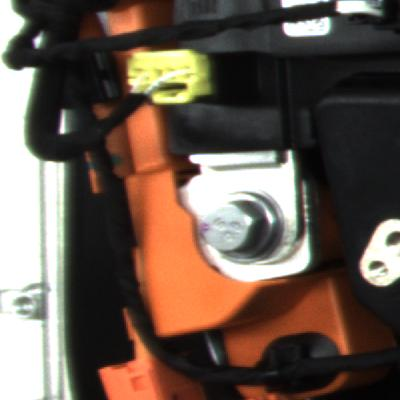nut_b: (204, 181, 294, 269)
